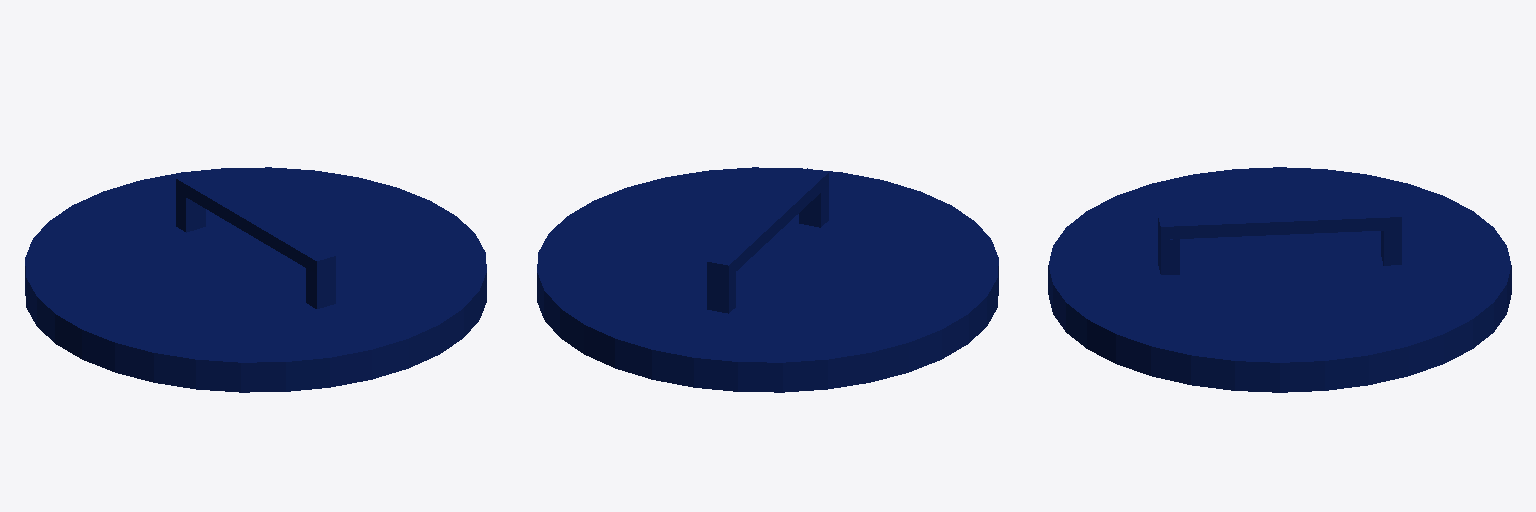
The model's file is trashlidlast.obj.
3 views of the same model, side by side, from view 1: azimuth 30°, elevation 25°; view 2: azimuth 150°, elevation 25°; view 3: azimuth 270°, elevation 25° (orthographic).
Parts seen in each view (by area): view 1: Trash_Lid.001_Cube.002; view 2: Trash_Lid.001_Cube.002; view 3: Trash_Lid.001_Cube.002.
Boxes of the visible parts, <box> form: Trash_Lid.001_Cube.002: <box>25,167,486,392</box>; Trash_Lid.001_Cube.002: <box>537,167,998,392</box>; Trash_Lid.001_Cube.002: <box>1048,167,1511,392</box>.
Size of the model in its own units: 3.47 by 0.6444 by 3.47.